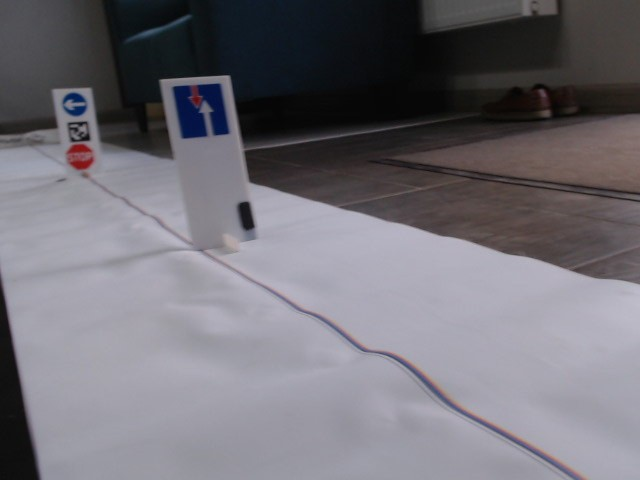Stop: (64, 143, 94, 170)
priority_movement: (170, 85, 233, 139)
